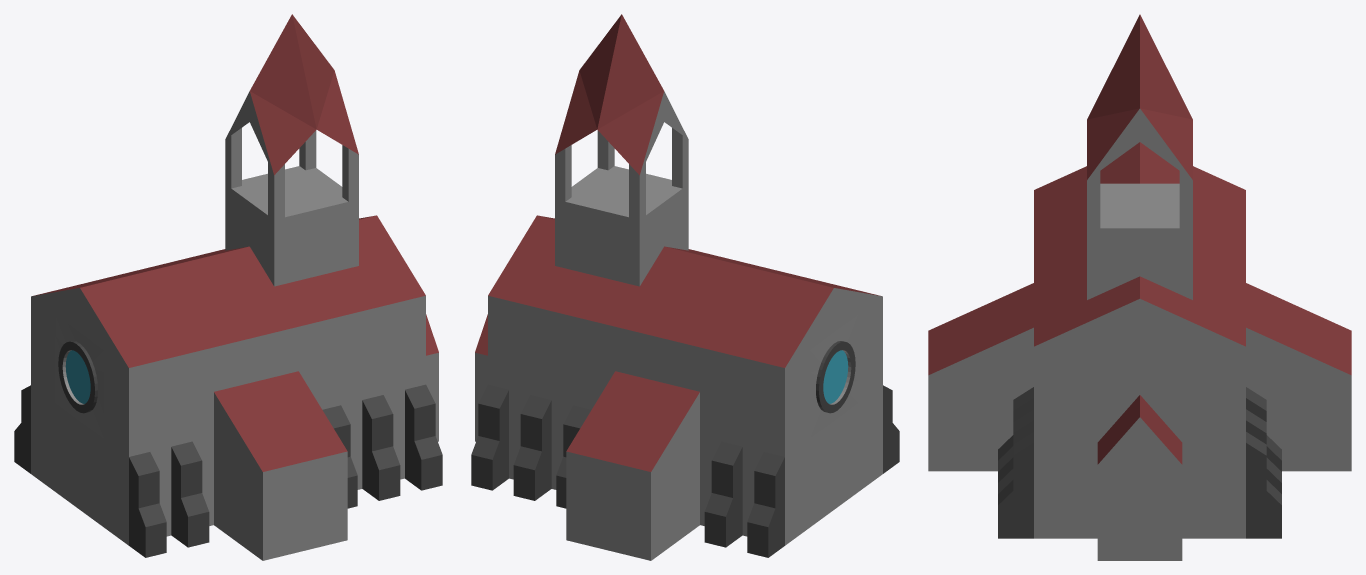
File: VilaNova_Church_LODS_textured.fbx
The picture shows the model from 3 angles, left to right: view 1: azimuth 30°, elevation 25°; view 2: azimuth 150°, elevation 25°; view 3: azimuth 270°, elevation 25°; orthographic projection. The views are drawn at different scales.
Visible parts, largest first — view 1: Church_LOD0; view 2: Church_LOD0; view 3: Church_LOD0.
Boxes of the visible parts, bbox=[...] form: Church_LOD0: bbox=[14, 14, 442, 560]; Church_LOD0: bbox=[471, 14, 899, 560]; Church_LOD0: bbox=[928, 14, 1351, 560].
Size of what is drawn, in the model's own units: 1615 by 2000 by 1600.
